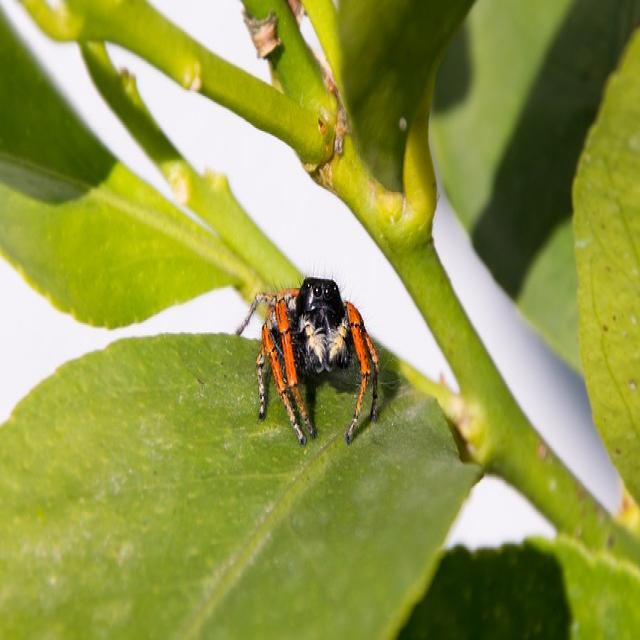spyder: (238, 278, 378, 443)
